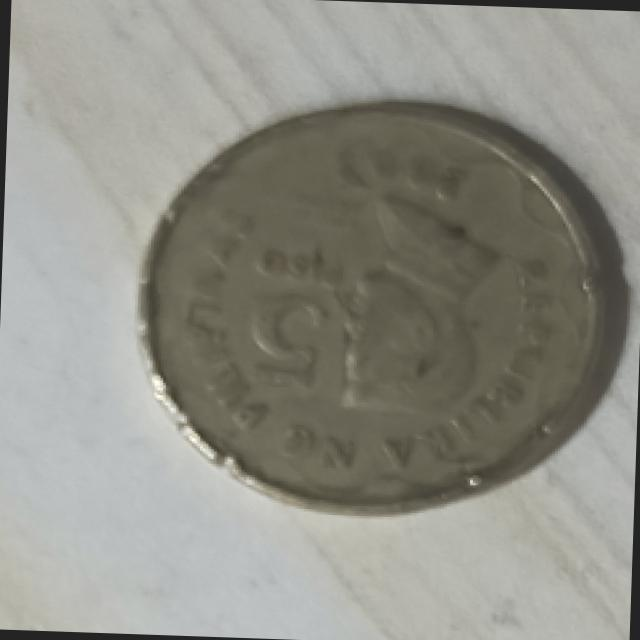5_peso: (136, 103, 623, 509)
